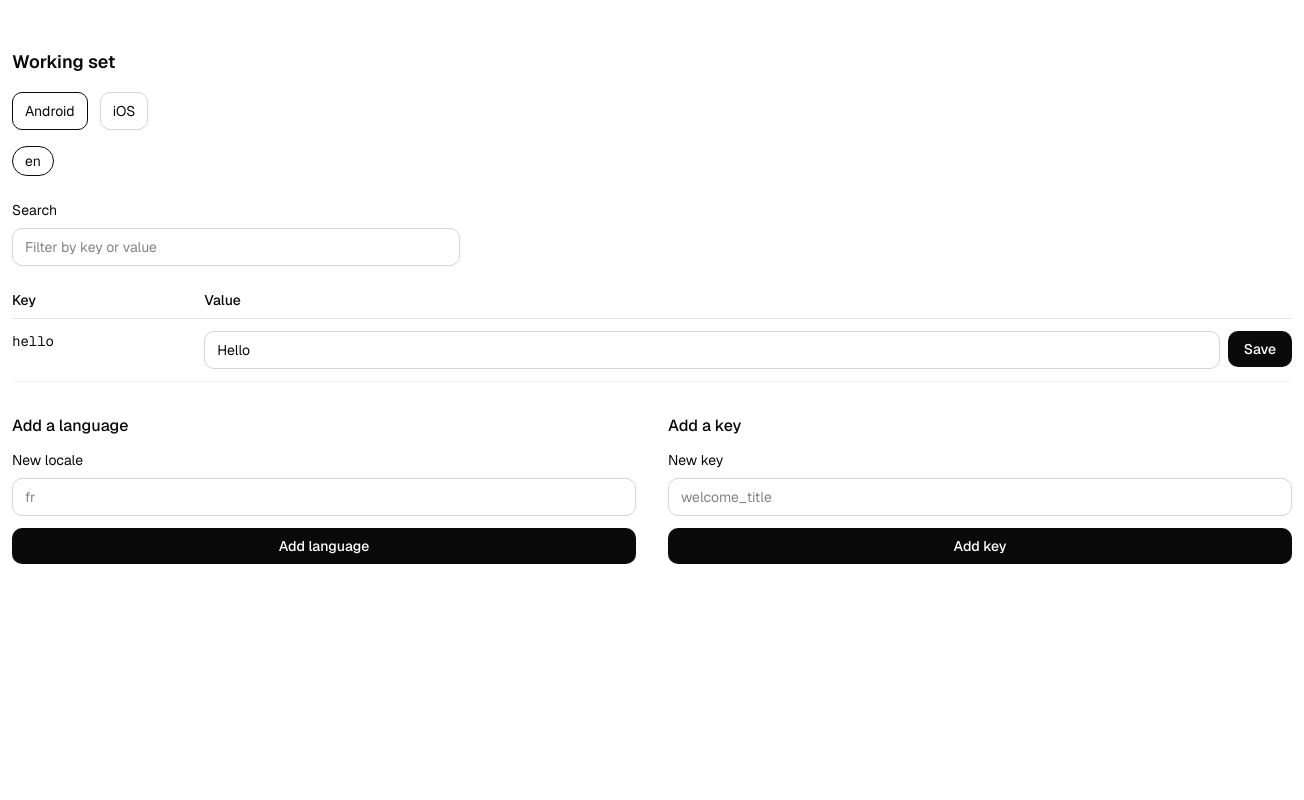
Test: working set UI › keeps a rejected value on screen and shows the error
Replace the text in the field named "Value for hello" with "Not stored" at (712, 350), box left=204, top=331, right=1220, bottom=369
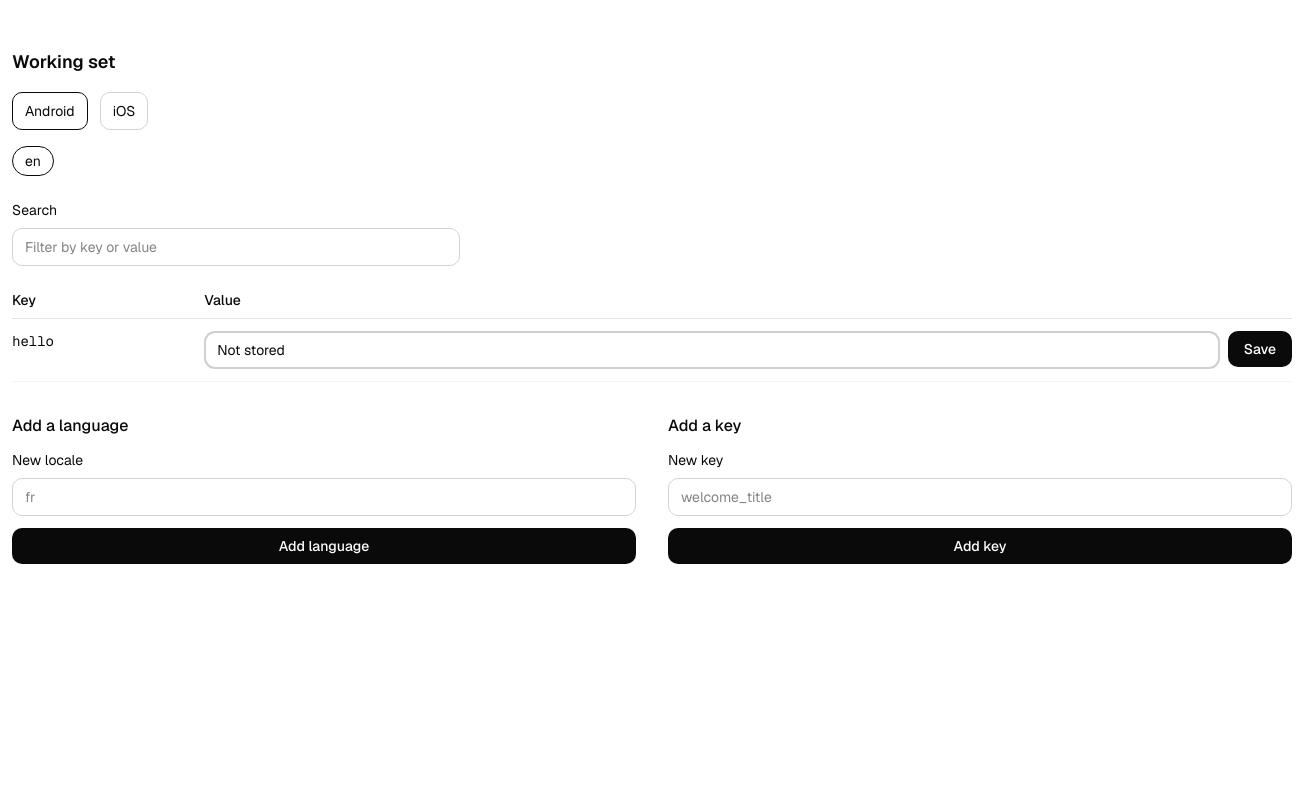
Click the button "Save" at (1260, 349), box left=1228, top=331, right=1292, bottom=367
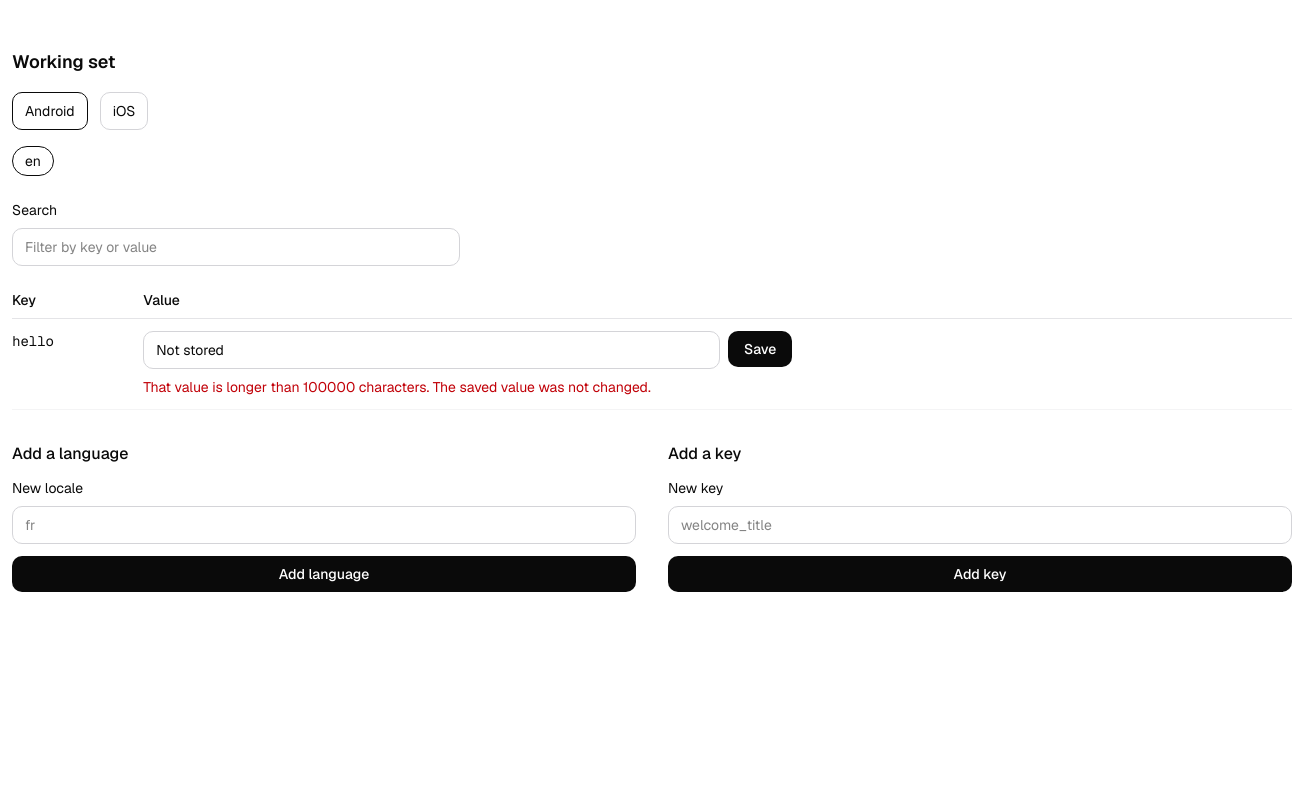
Check: the message shows "not changed", box left=143, top=378, right=651, bottom=396
